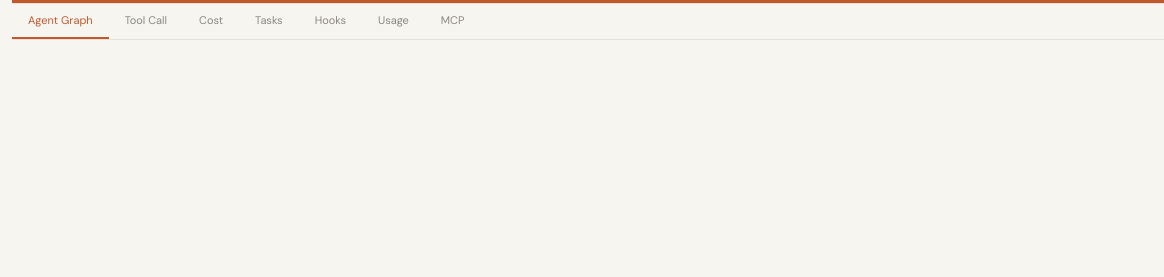
BottomPanel › renders CostTab when Cost tab is clicked with metrics
What coordinates should you click on to do the following:
click the button "Cost"
I would click on:
 (211, 21)
Its box is [183, 4, 239, 38].
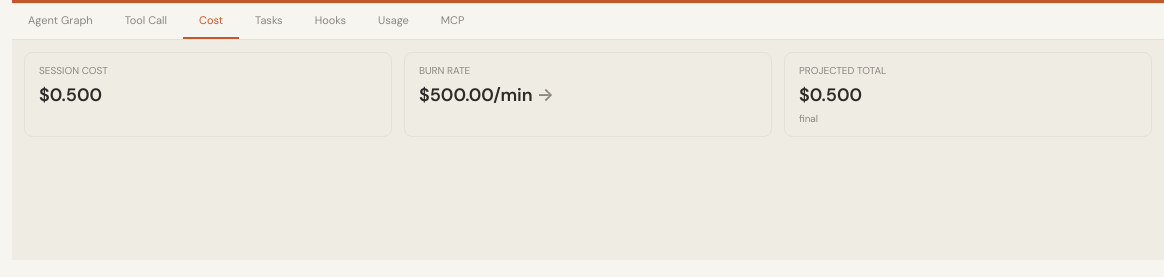
Expected: the text "Session Cost" is shown, [39, 64, 108, 76]
